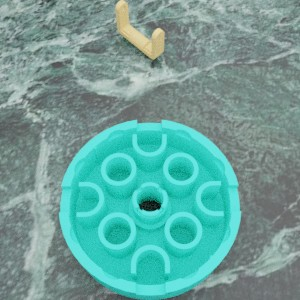lego: (59, 119, 241, 299), (115, 0, 164, 59)
